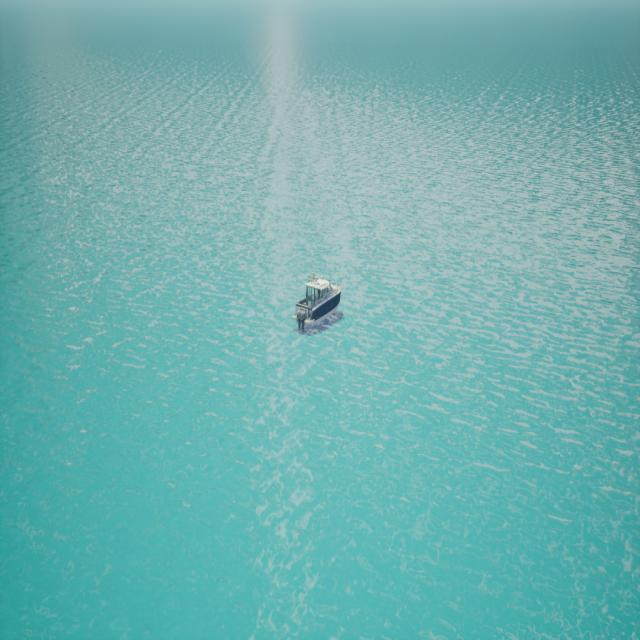ship: (293, 278, 342, 334)
